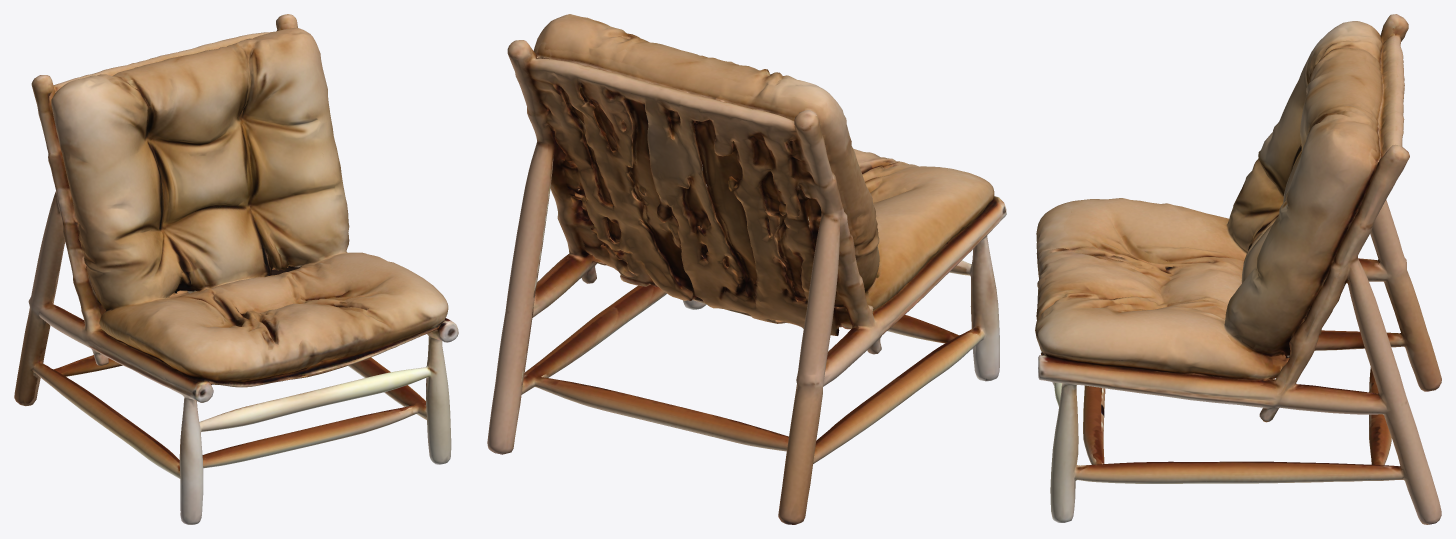
Rendered from product-bohemian-henning-wood-and-leather-accent-chair-01.glb.
3 views of the same model, side by side, from view 1: azimuth 30°, elevation 25°; view 2: azimuth 150°, elevation 25°; view 3: azimuth 270°, elevation 25° (orthographic). The views are drawn at different scales.
Parts seen in each view (by area): view 1: geometry_0; view 2: geometry_0; view 3: geometry_0.
Part boxes in pixels (x1=…): geometry_0: x1=14, y1=14, x2=458, y2=524; geometry_0: x1=487, y1=14, x2=1006, y2=524; geometry_0: x1=1035, y1=14, x2=1441, y2=524.
Bounding box in the file's own units: 1.62 × 1.97 × 1.9.
1 material, 1 textured.
